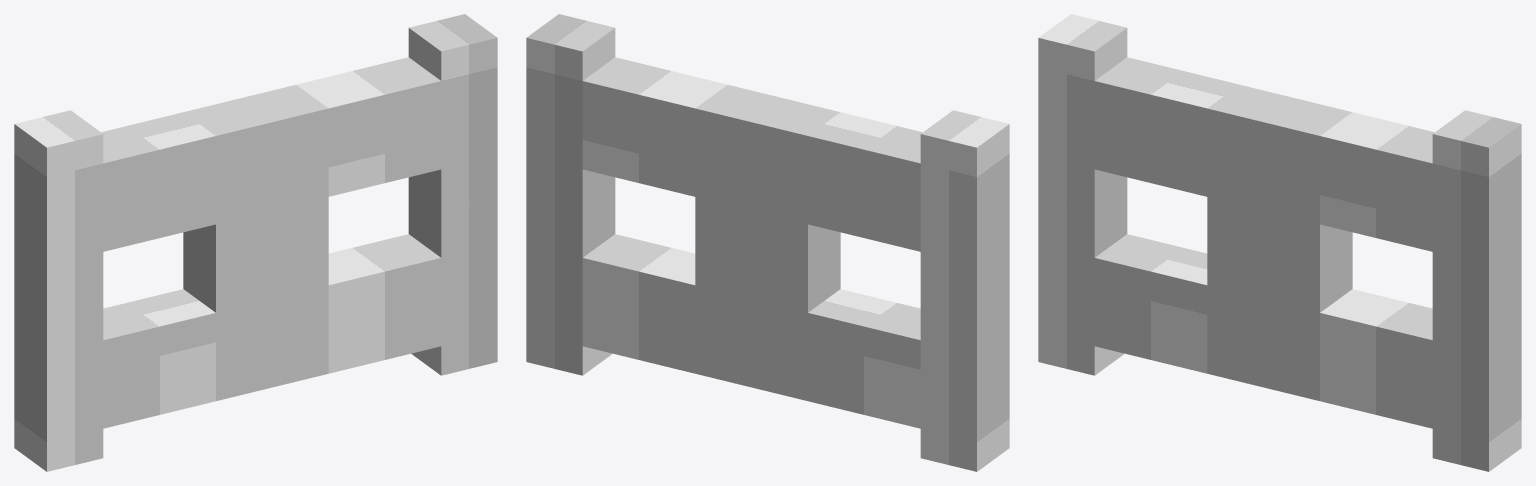
Rendered from block_template_fence_gate_wall.gltf.
The picture shows the model from 3 angles, left to right: view 1: azimuth 30°, elevation 25°; view 2: azimuth 150°, elevation 25°; view 3: azimuth 330°, elevation 25°; orthographic projection.
Parts seen in each view (by area): view 1: Left-hand post, Right-hand post, Inner vertical post of left-hand gate door, Inner vertical post of right-hand gate door, Upper horizontal bar of right-hand gate door, Lower horizontal bar of right-hand gate door, Upper horizontal bar of left-hand gate door, Lower horizontal bar of left-hand gate door; view 2: Left-hand post, Right-hand post, Inner vertical post of left-hand gate door, Inner vertical post of right-hand gate door, Upper horizontal bar of right-hand gate door, Lower horizontal bar of right-hand gate door, Upper horizontal bar of left-hand gate door, Lower horizontal bar of left-hand gate door; view 3: Right-hand post, Left-hand post, Inner vertical post of right-hand gate door, Inner vertical post of left-hand gate door, Upper horizontal bar of left-hand gate door, Lower horizontal bar of left-hand gate door, Upper horizontal bar of right-hand gate door, Lower horizontal bar of right-hand gate door.
Boxes of the visible parts, left/top/right/bottom form: Left-hand post: left=14, top=110, right=103, bottom=471; Right-hand post: left=408, top=14, right=497, bottom=375; Inner vertical post of left-hand gate door: left=183, top=98, right=272, bottom=400; Inner vertical post of right-hand gate door: left=240, top=85, right=328, bottom=387; Upper horizontal bar of right-hand gate door: left=296, top=57, right=441, bottom=196; Lower horizontal bar of right-hand gate door: left=328, top=234, right=441, bottom=373; Upper horizontal bar of left-hand gate door: left=101, top=112, right=215, bottom=251; Lower horizontal bar of left-hand gate door: left=103, top=289, right=215, bottom=428; Left-hand post: left=920, top=110, right=1009, bottom=471; Right-hand post: left=526, top=14, right=615, bottom=375; Inner vertical post of left-hand gate door: left=751, top=98, right=840, bottom=400; Inner vertical post of right-hand gate door: left=695, top=85, right=783, bottom=387; Upper horizontal bar of right-hand gate door: left=582, top=57, right=727, bottom=196; Lower horizontal bar of right-hand gate door: left=582, top=234, right=695, bottom=373; Upper horizontal bar of left-hand gate door: left=808, top=112, right=922, bottom=251; Lower horizontal bar of left-hand gate door: left=808, top=289, right=920, bottom=428; Right-hand post: left=1432, top=110, right=1521, bottom=471; Left-hand post: left=1038, top=14, right=1127, bottom=375; Inner vertical post of right-hand gate door: left=1263, top=98, right=1352, bottom=400; Inner vertical post of left-hand gate door: left=1207, top=85, right=1295, bottom=387; Upper horizontal bar of left-hand gate door: left=1094, top=57, right=1239, bottom=196; Lower horizontal bar of left-hand gate door: left=1094, top=234, right=1207, bottom=373; Upper horizontal bar of right-hand gate door: left=1320, top=112, right=1434, bottom=251; Lower horizontal bar of right-hand gate door: left=1320, top=289, right=1432, bottom=428.
Bounding box in the file's own units: 1 × 0.6875 × 0.125.
1 material, 1 textured.
